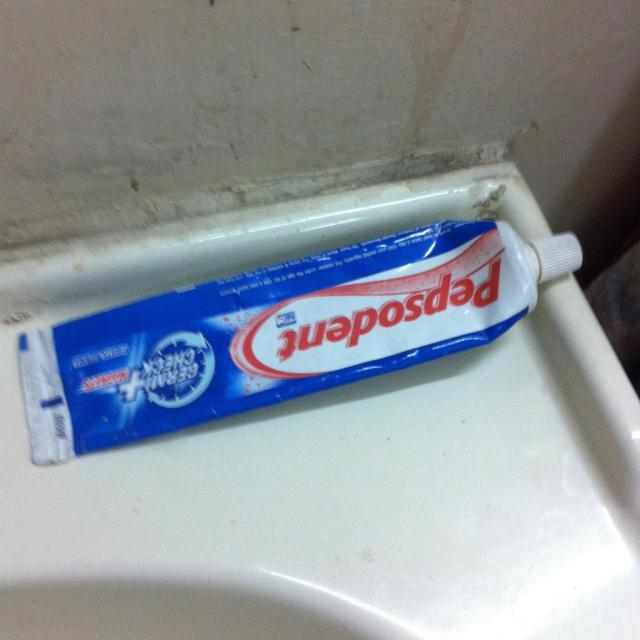Toothpaste: (0, 204, 590, 468)
